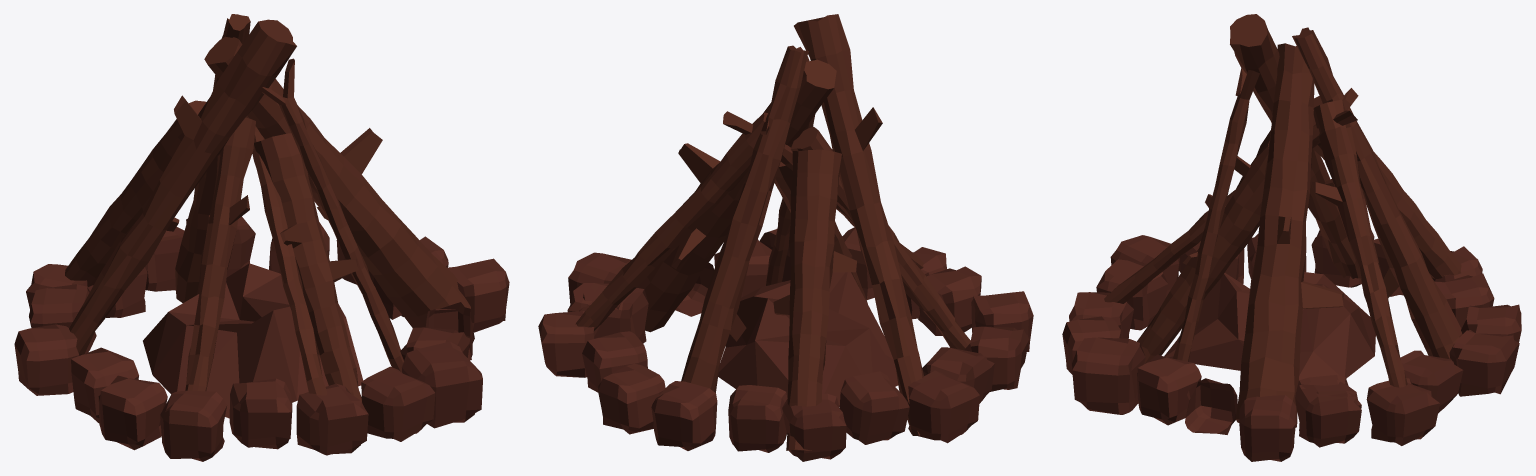
File: Campfire.fbx
3 renders of one model, left to right at view 1: azimuth 30°, elevation 25°; view 2: azimuth 150°, elevation 25°; view 3: azimuth 270°, elevation 25°, orthographic. The views are drawn at different scales.
Parts seen in each view (by area): view 1: Campfire_01; view 2: Campfire_01; view 3: Campfire_01.
Boxes of the visible parts, x1,y1,x2,y2 form: Campfire_01: (14, 14, 509, 461); Campfire_01: (538, 14, 1033, 461); Campfire_01: (1062, 14, 1521, 461).
Bounding box in the file's own units: 1.56 × 1.24 × 1.48.
Materials: 1 (1 with a texture image).
